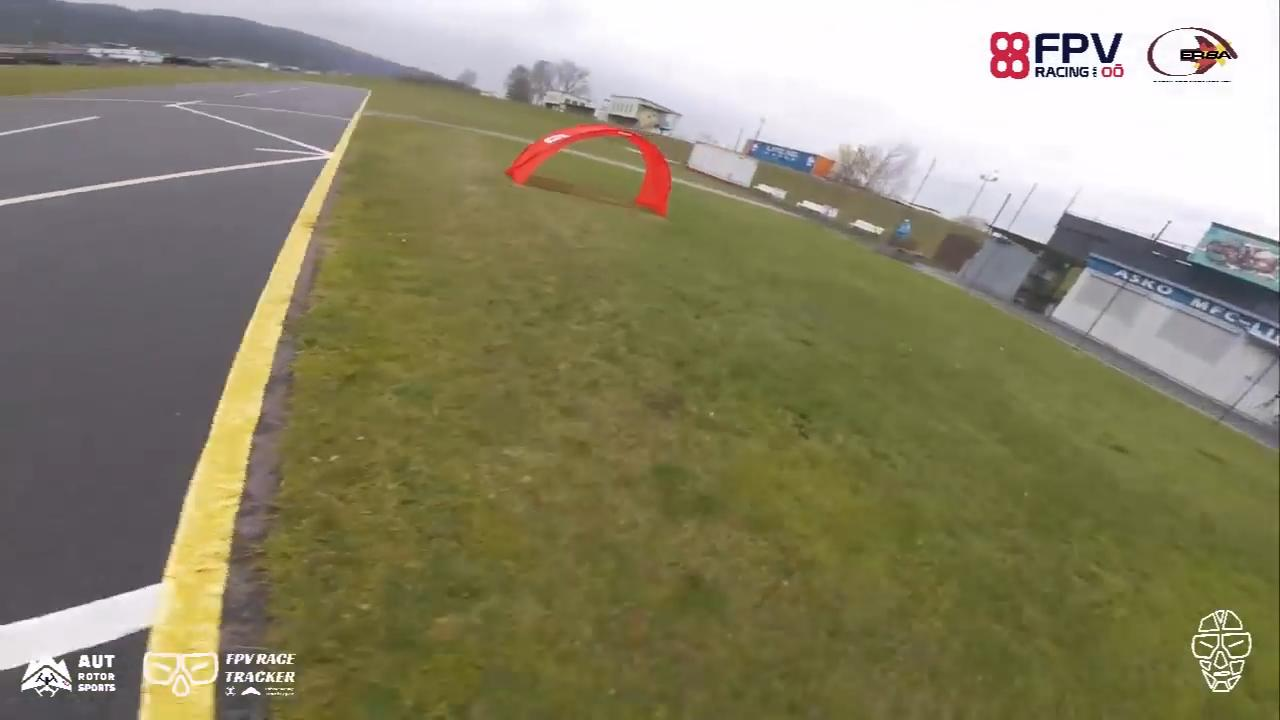gate: (504, 122, 672, 216)
